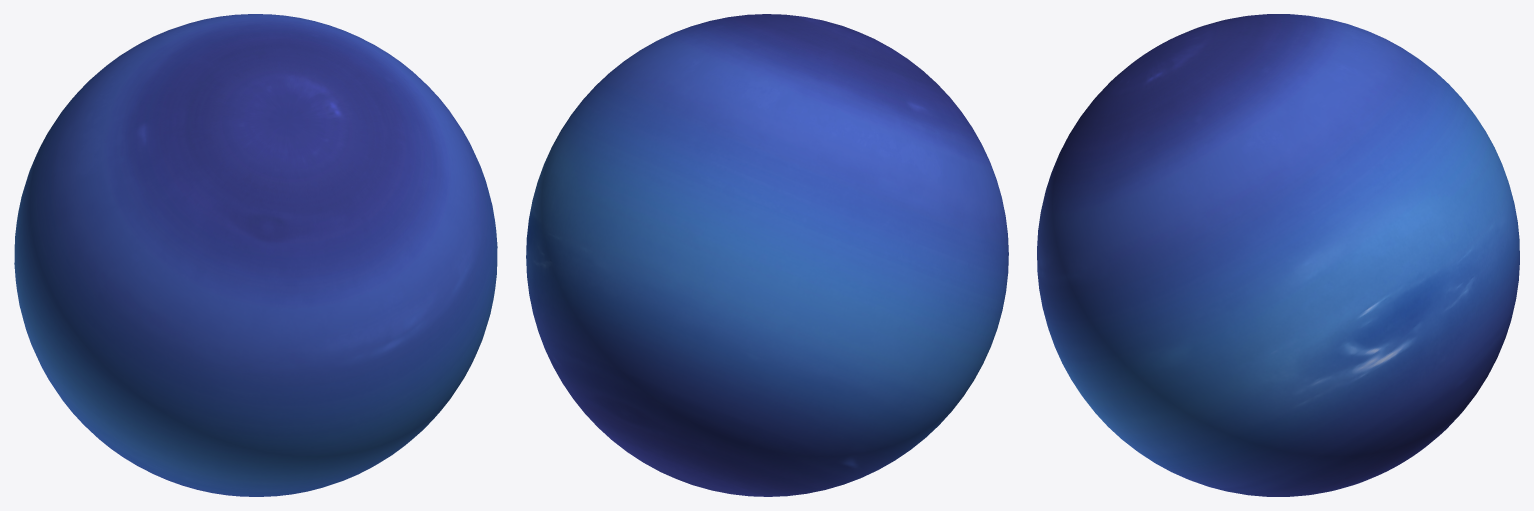
The model's file is neptune.glb.
3 views of the same model, side by side, from view 1: azimuth 30°, elevation 25°; view 2: azimuth 150°, elevation 25°; view 3: azimuth 270°, elevation 25° (orthographic).
Parts seen in each view (by area): view 1: Planet1surface; view 2: Planet1surface; view 3: Planet1surface.
Boxes of the visible parts, x1,y1,x2,y2 form: Planet1surface: (14, 14, 497, 496); Planet1surface: (526, 14, 1008, 496); Planet1surface: (1037, 14, 1519, 496).
Size of the model in its own units: 8 by 8 by 7.99.
1 material, 1 textured.
